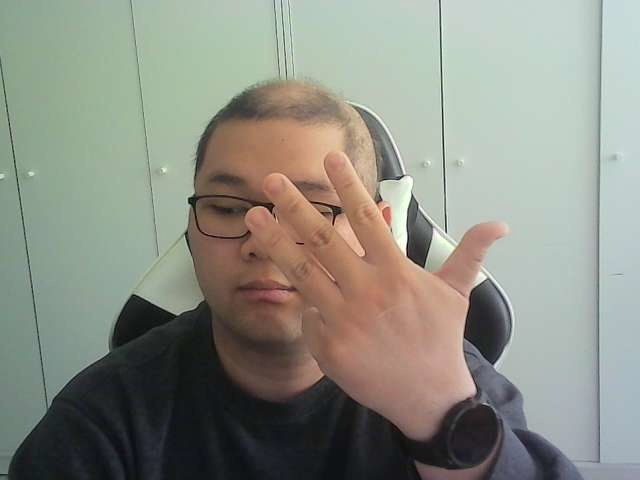Four: (244, 149, 512, 404)
